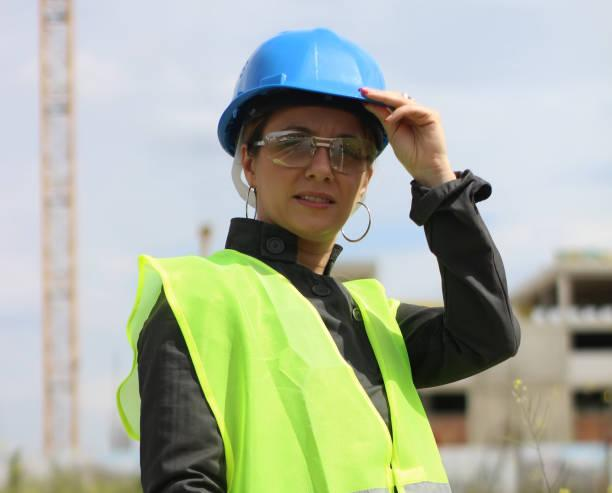goggle: (241, 123, 393, 185)
helmet: (189, 24, 411, 178)
vest: (109, 234, 460, 493)
